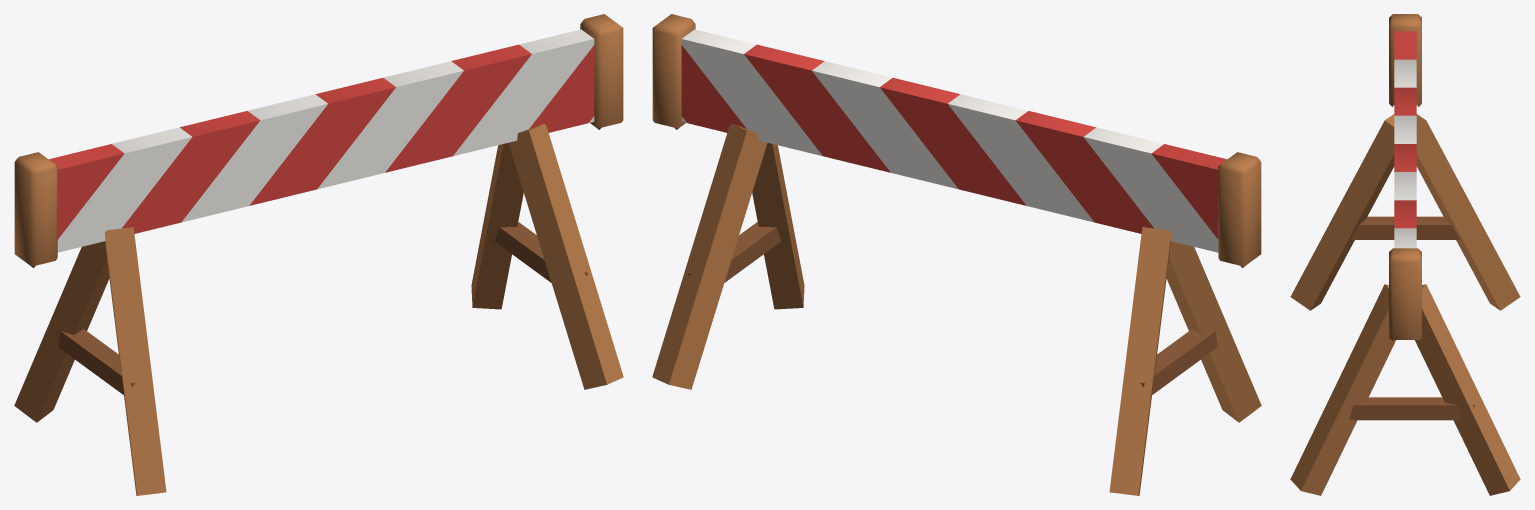
The model's file is road_block.glb.
3 views of the same model, side by side, from view 1: azimuth 30°, elevation 25°; view 2: azimuth 150°, elevation 25°; view 3: azimuth 270°, elevation 25° (orthographic). The views are drawn at different scales.
Visible parts, largest first — view 1: road_block; view 2: road_block; view 3: road_block.
Boxes of the visible parts, left/top/right/bottom form: road_block: left=14, top=14, right=623, bottom=495; road_block: left=652, top=14, right=1261, bottom=495; road_block: left=1290, top=14, right=1520, bottom=495.
Bounding box in the file's own units: 2.1 × 1.05 × 0.8306.
Materials: 1 (1 with a texture image).
